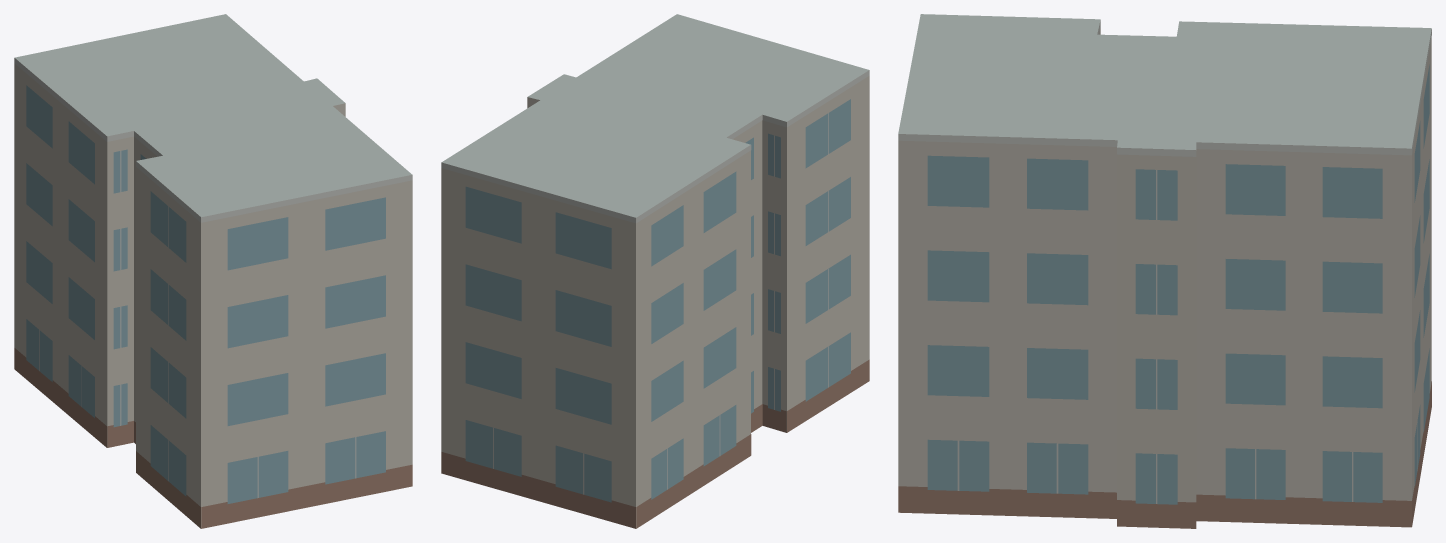
The model's file is survey-upis-32750030.glb.
3 views of the same model, side by side, from view 1: azimuth 30°, elevation 25°; view 2: azimuth 150°, elevation 25°; view 3: azimuth 270°, elevation 25° (orthographic). The views are drawn at different scales.
Visible parts, largest first — view 1: survey-upis-32750030.tmp; view 2: survey-upis-32750030.tmp; view 3: survey-upis-32750030.tmp.
Boxes of the visible parts, left/top/right/bottom form: survey-upis-32750030.tmp: left=14, top=14, right=412, bottom=528; survey-upis-32750030.tmp: left=441, top=14, right=869, bottom=528; survey-upis-32750030.tmp: left=898, top=14, right=1431, bottom=528.
Size of the model in its own units: 10.49 by 13.6 by 17.38.
